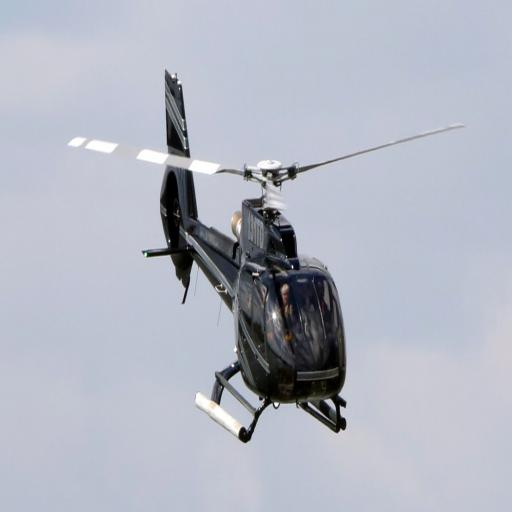helicopter: (69, 75, 466, 446)
